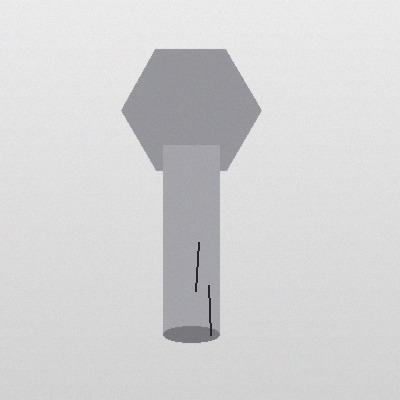scratch: (189, 238, 204, 295), (202, 281, 216, 339)
